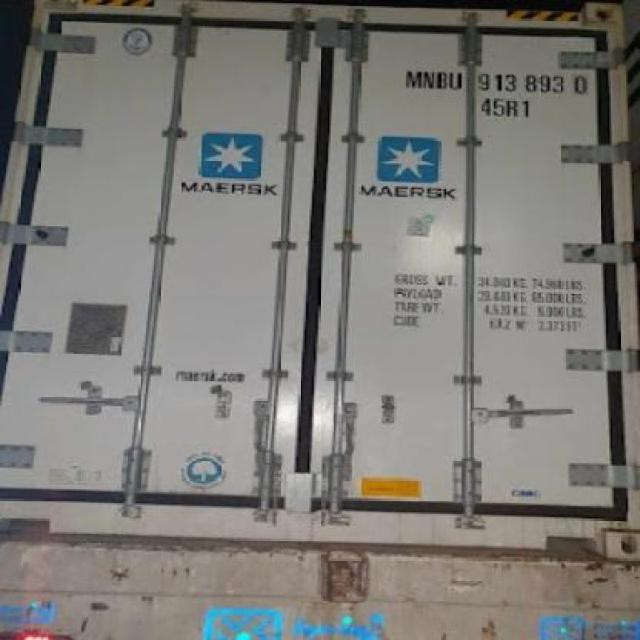ISO: (482, 97, 534, 118)
container_number: (411, 71, 585, 94)
